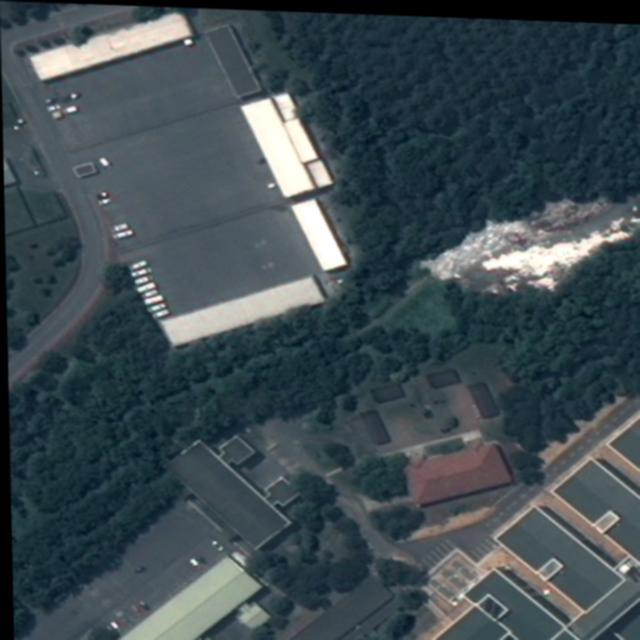Batiment: (169, 433, 296, 546), (112, 554, 259, 640), (497, 504, 620, 603), (424, 567, 585, 640), (32, 11, 191, 78), (553, 456, 640, 556), (242, 95, 311, 191), (407, 439, 511, 502), (291, 196, 346, 266), (608, 412, 640, 462), (284, 115, 317, 158), (467, 377, 497, 414), (359, 408, 388, 440), (426, 364, 460, 385), (370, 380, 403, 400), (306, 160, 333, 182), (274, 92, 296, 117)
